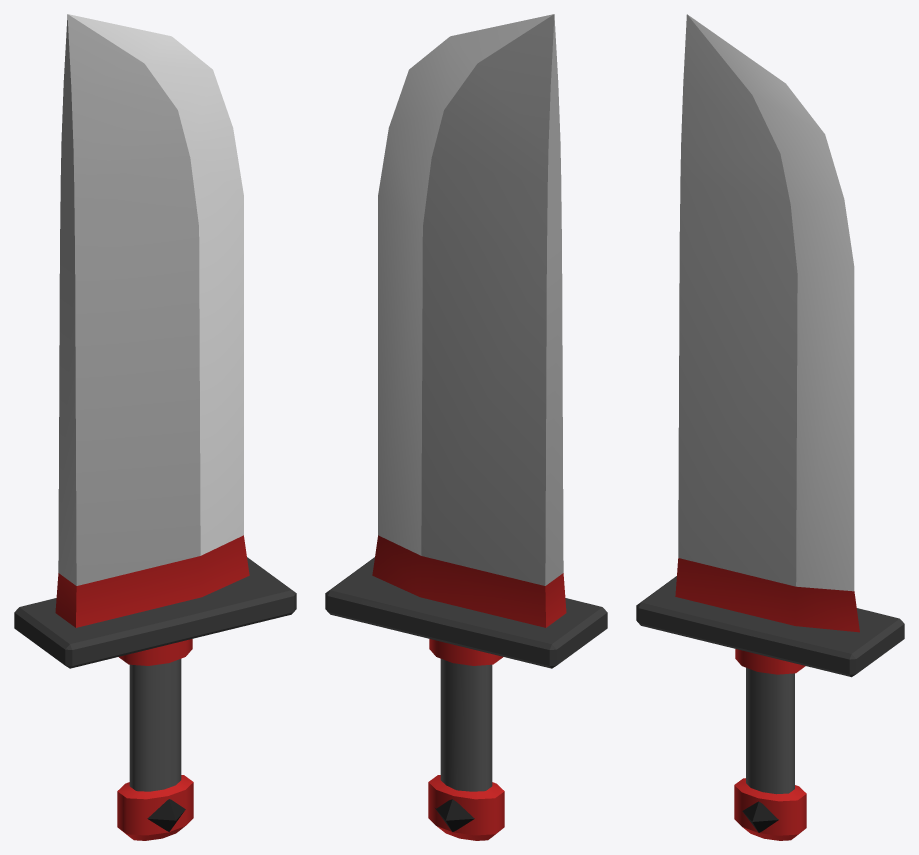
The model's file is MassiveSword_R7.fbx.
3 views of the same model, side by side, from view 1: azimuth 30°, elevation 25°; view 2: azimuth 150°, elevation 25°; view 3: azimuth 330°, elevation 25° (orthographic). The views are drawn at different scales.
Parts seen in each view (by area): view 1: MassiveSword_R7; view 2: MassiveSword_R7; view 3: MassiveSword_R7.
Part boxes in pixels (bbox=[...]): MassiveSword_R7: bbox=[14, 14, 296, 840]; MassiveSword_R7: bbox=[325, 14, 607, 840]; MassiveSword_R7: bbox=[636, 14, 904, 840].
Bounding box in the file's own units: 45.87 × 159 × 19.03.
